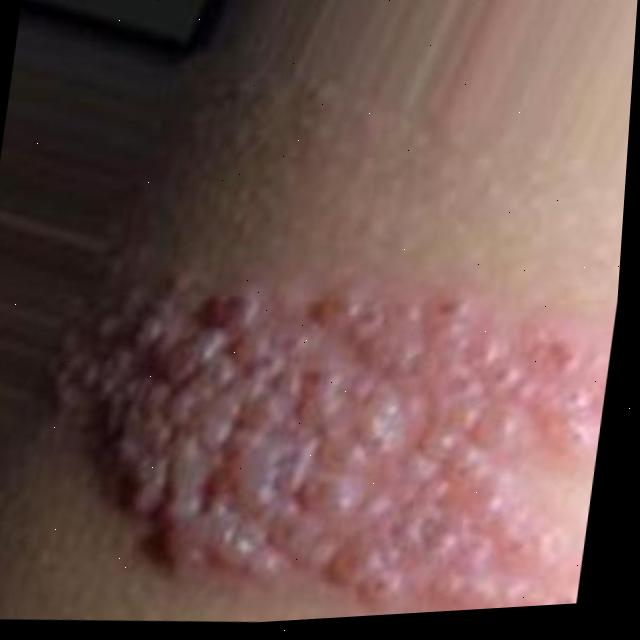Shingles: (12, 254, 621, 637)
